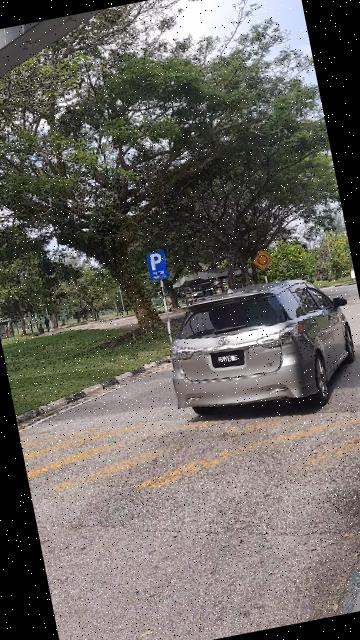License_Plate: (210, 347, 248, 373)
car: (157, 268, 360, 434)
